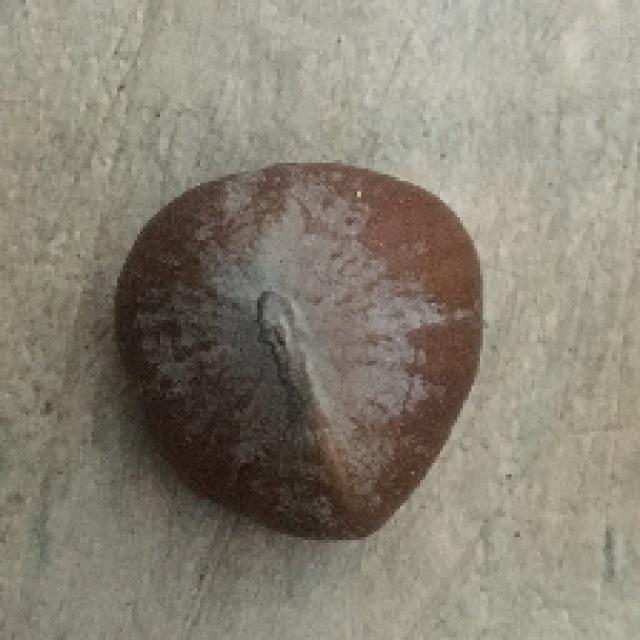qualityHazelnut: (108, 157, 494, 543)
